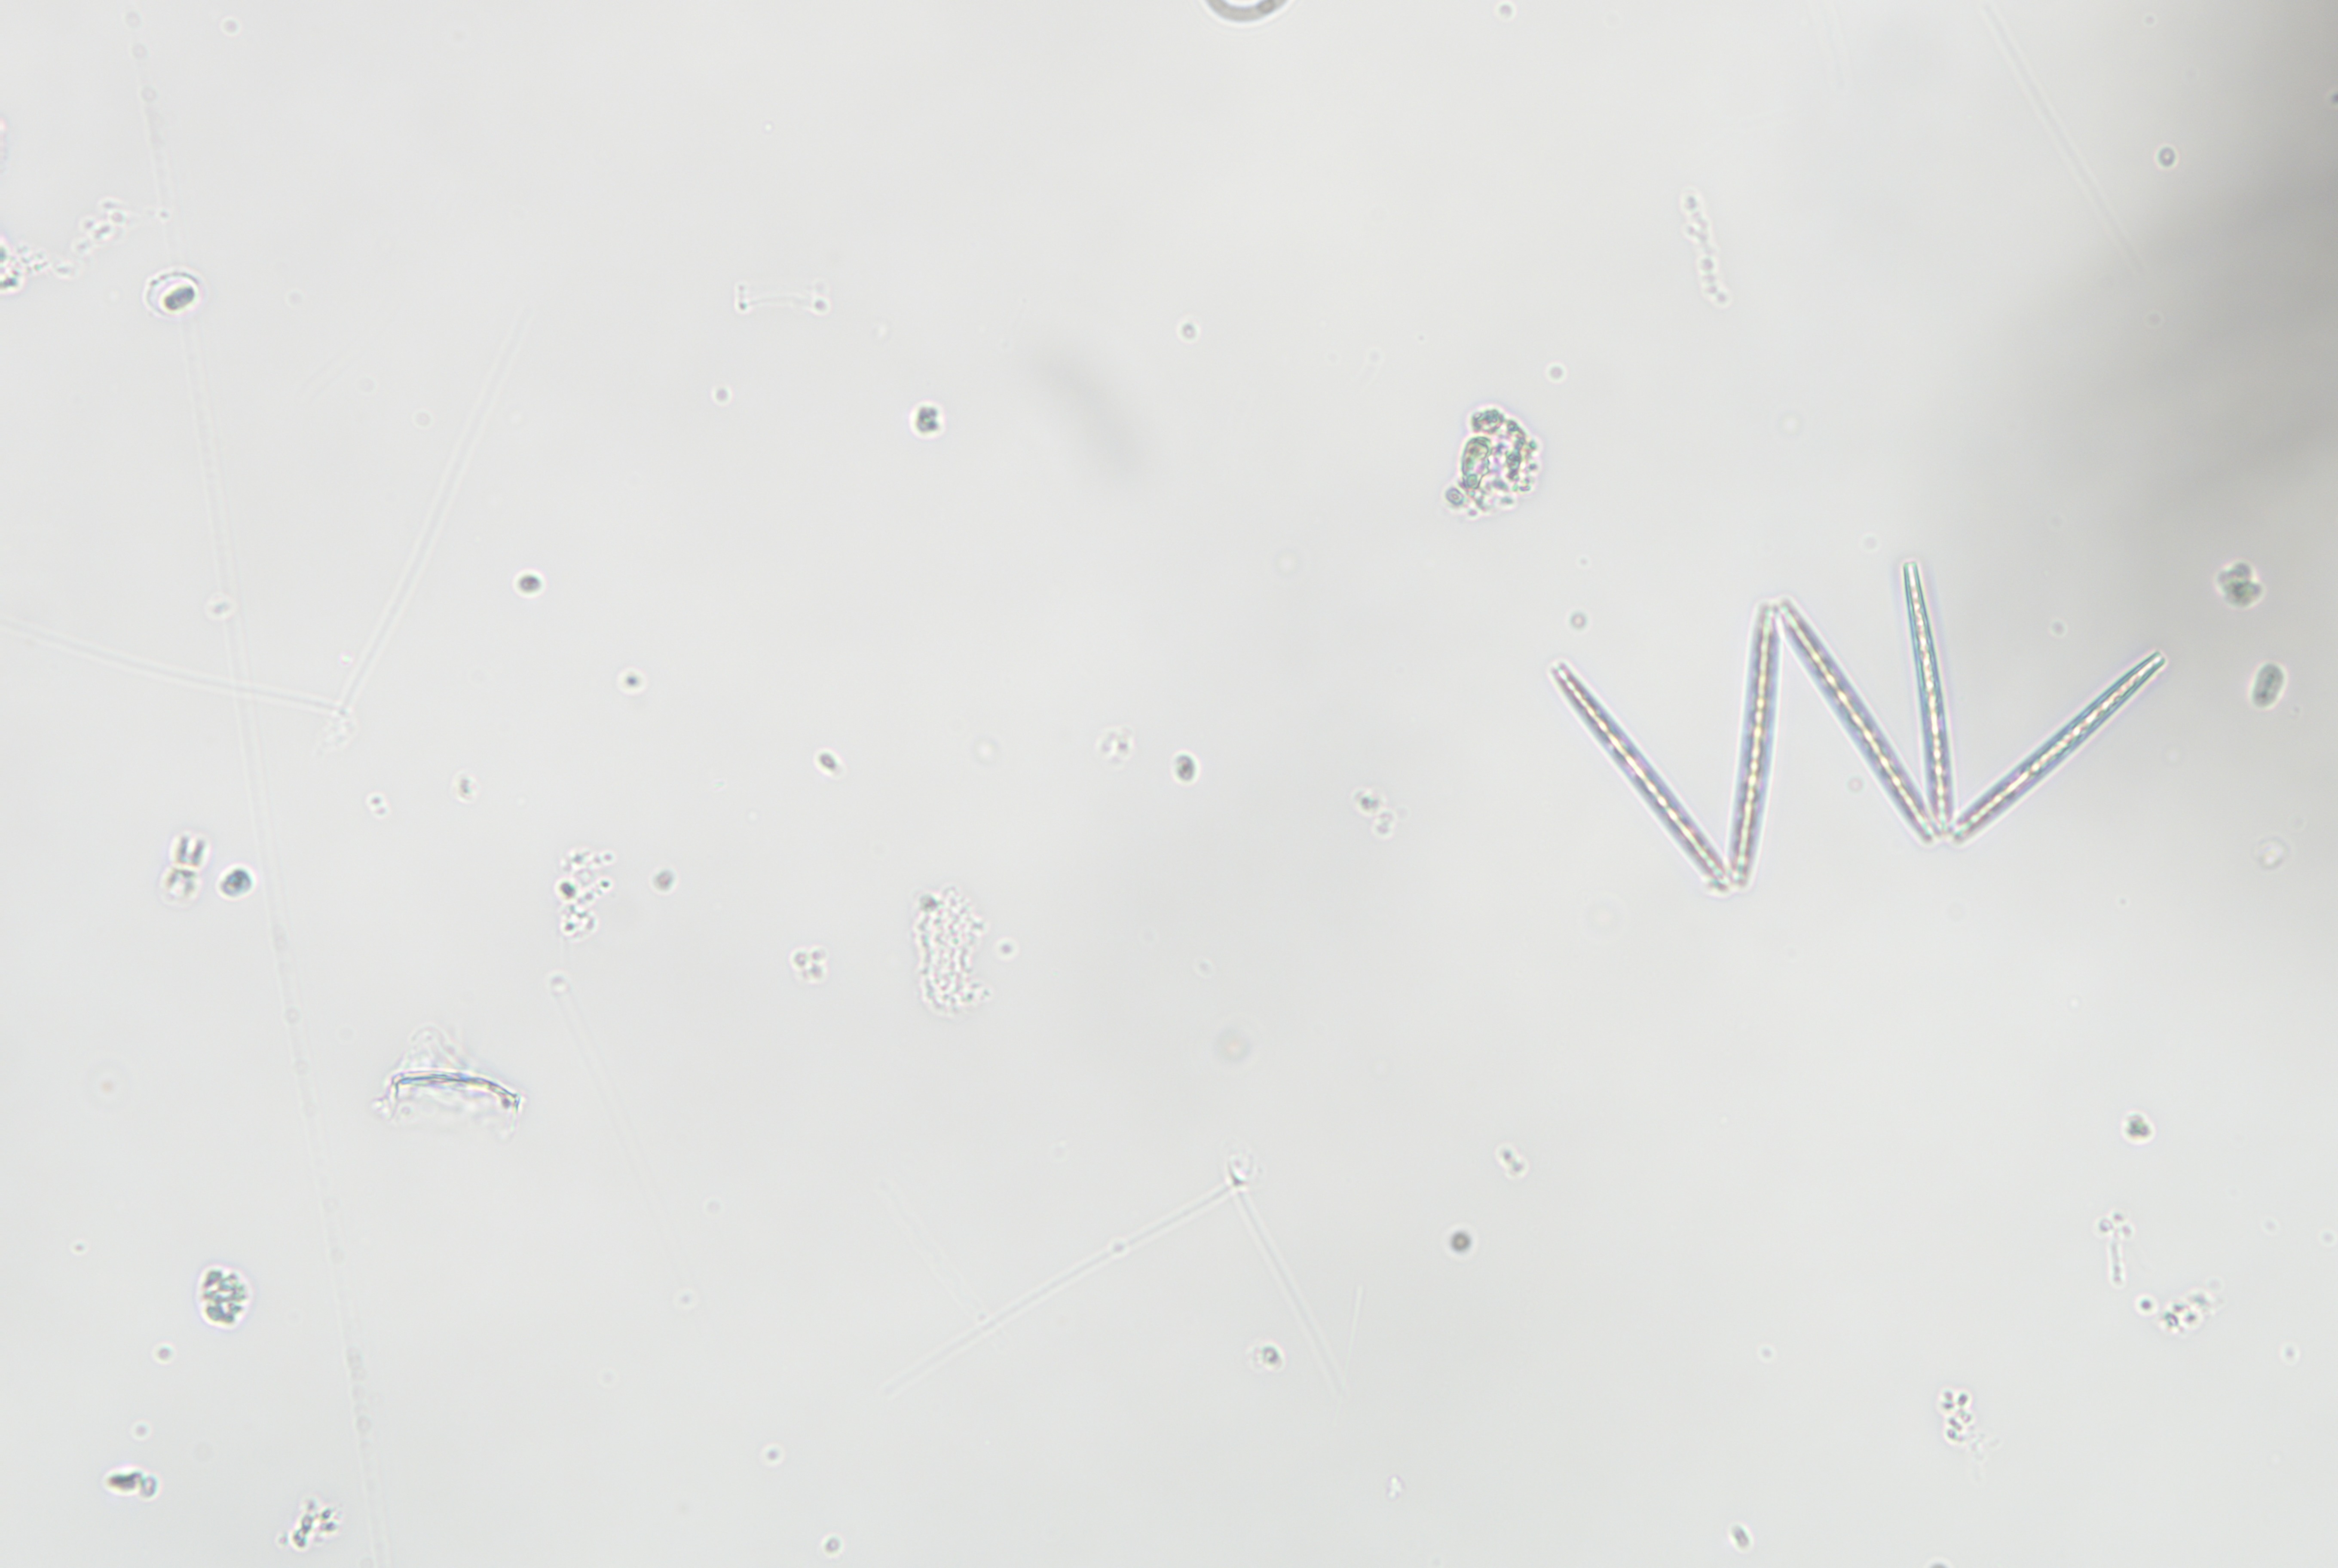thalassionema nitzschioides: (1512, 569, 2201, 898)
